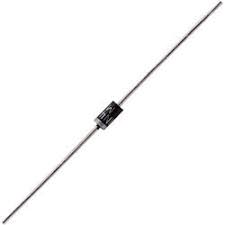diode: (79, 83, 142, 150)
